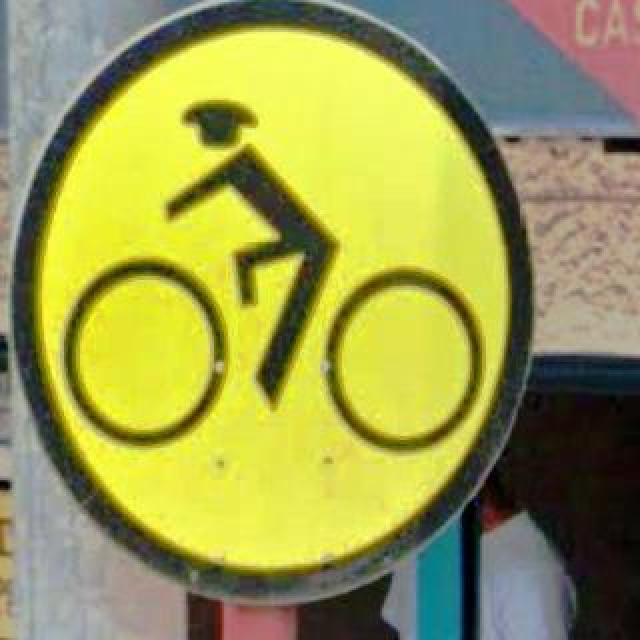bike lane: (12, 0, 534, 604)
